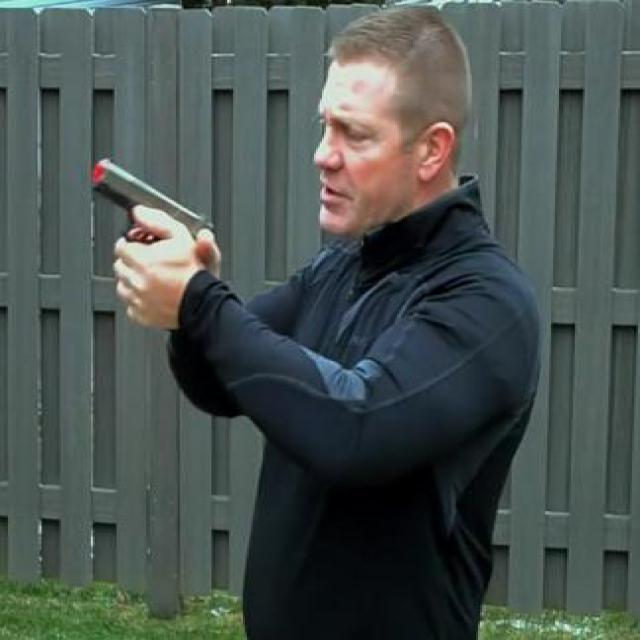gun: (79, 150, 227, 328)
